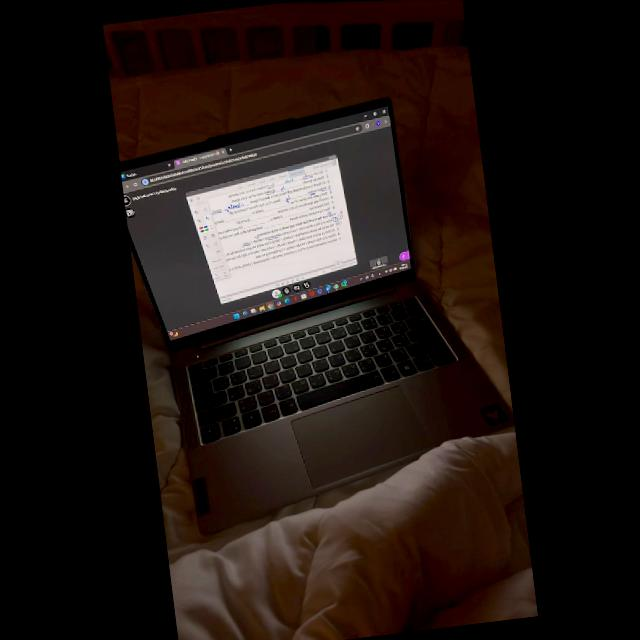laptop: (123, 98, 513, 533)
